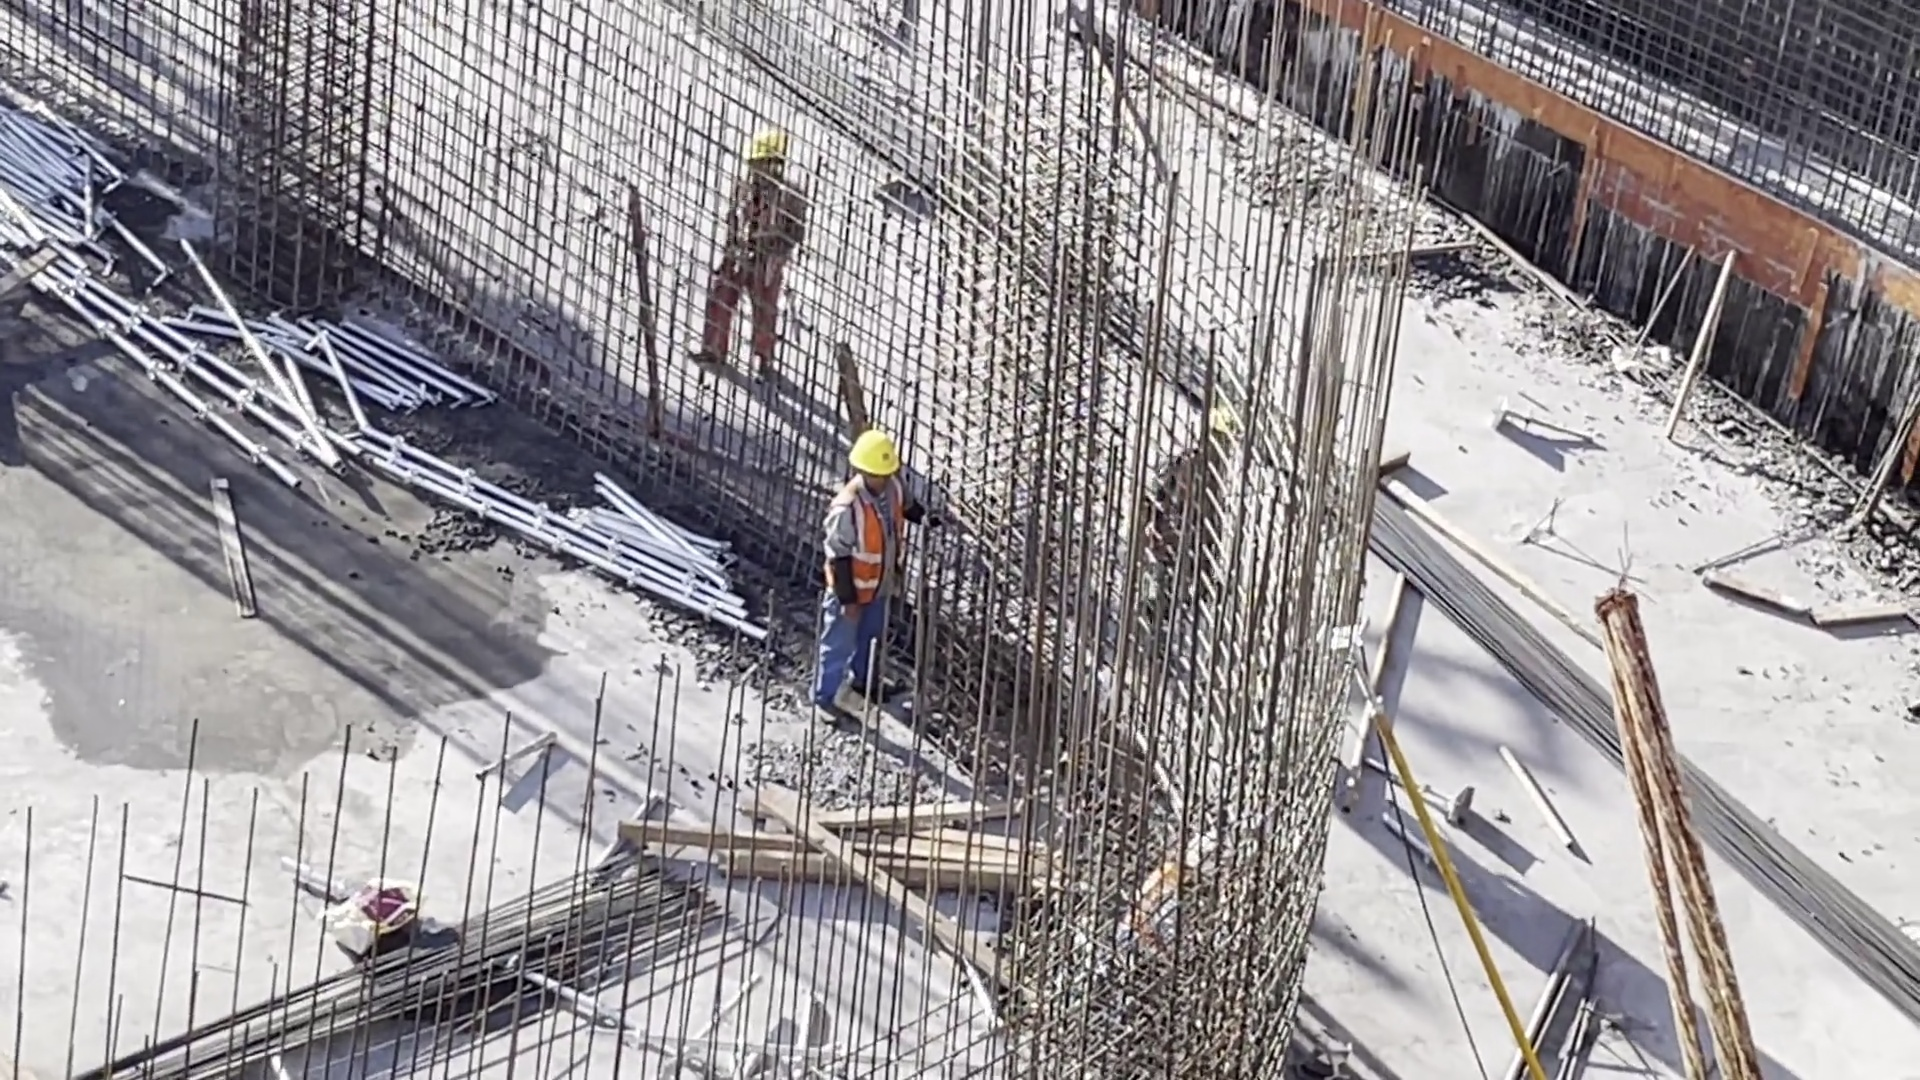helmet: (845, 428, 900, 482), (736, 131, 796, 174), (1210, 411, 1240, 443)
person: (812, 424, 940, 700), (1134, 395, 1258, 674), (708, 124, 812, 382)
rebar: (1347, 497, 1920, 1036), (129, 857, 710, 1080)
scaffold: (237, 276, 467, 473), (544, 452, 768, 638), (1, 129, 92, 261)
vest: (837, 484, 919, 608), (1165, 465, 1222, 583), (733, 184, 810, 270)
